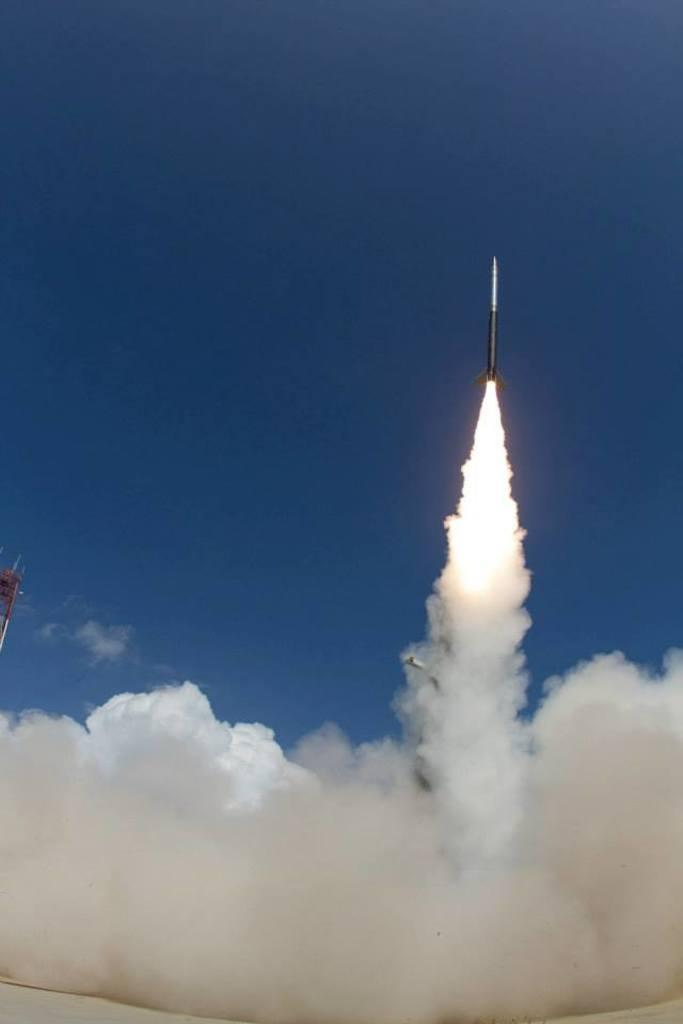Missile: (474, 255, 513, 396)
